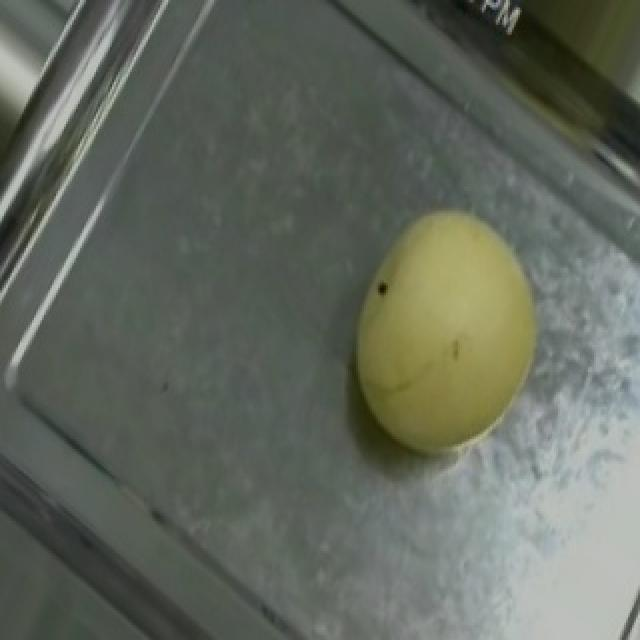Fruit: (306, 171, 578, 489)
